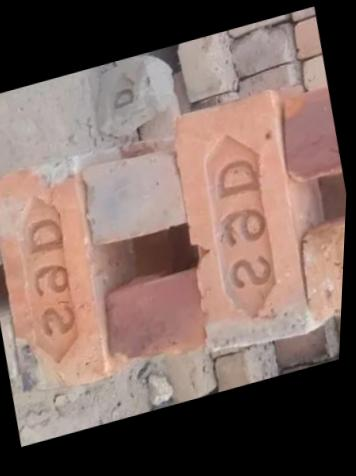brick: (156, 88, 327, 362), (0, 153, 121, 402), (77, 147, 186, 249), (101, 269, 210, 363), (268, 86, 346, 188), (294, 222, 345, 323)
